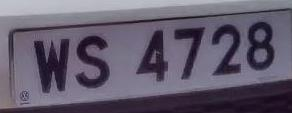2: (207, 17, 245, 82)
4: (132, 26, 176, 88)
7: (170, 22, 209, 85)
8: (243, 14, 285, 80)
S: (71, 30, 117, 95)
W: (30, 29, 72, 99)
